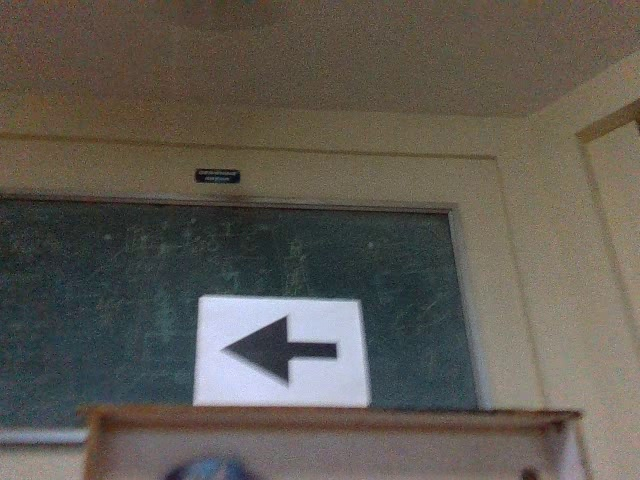Left: (213, 306, 346, 388)
